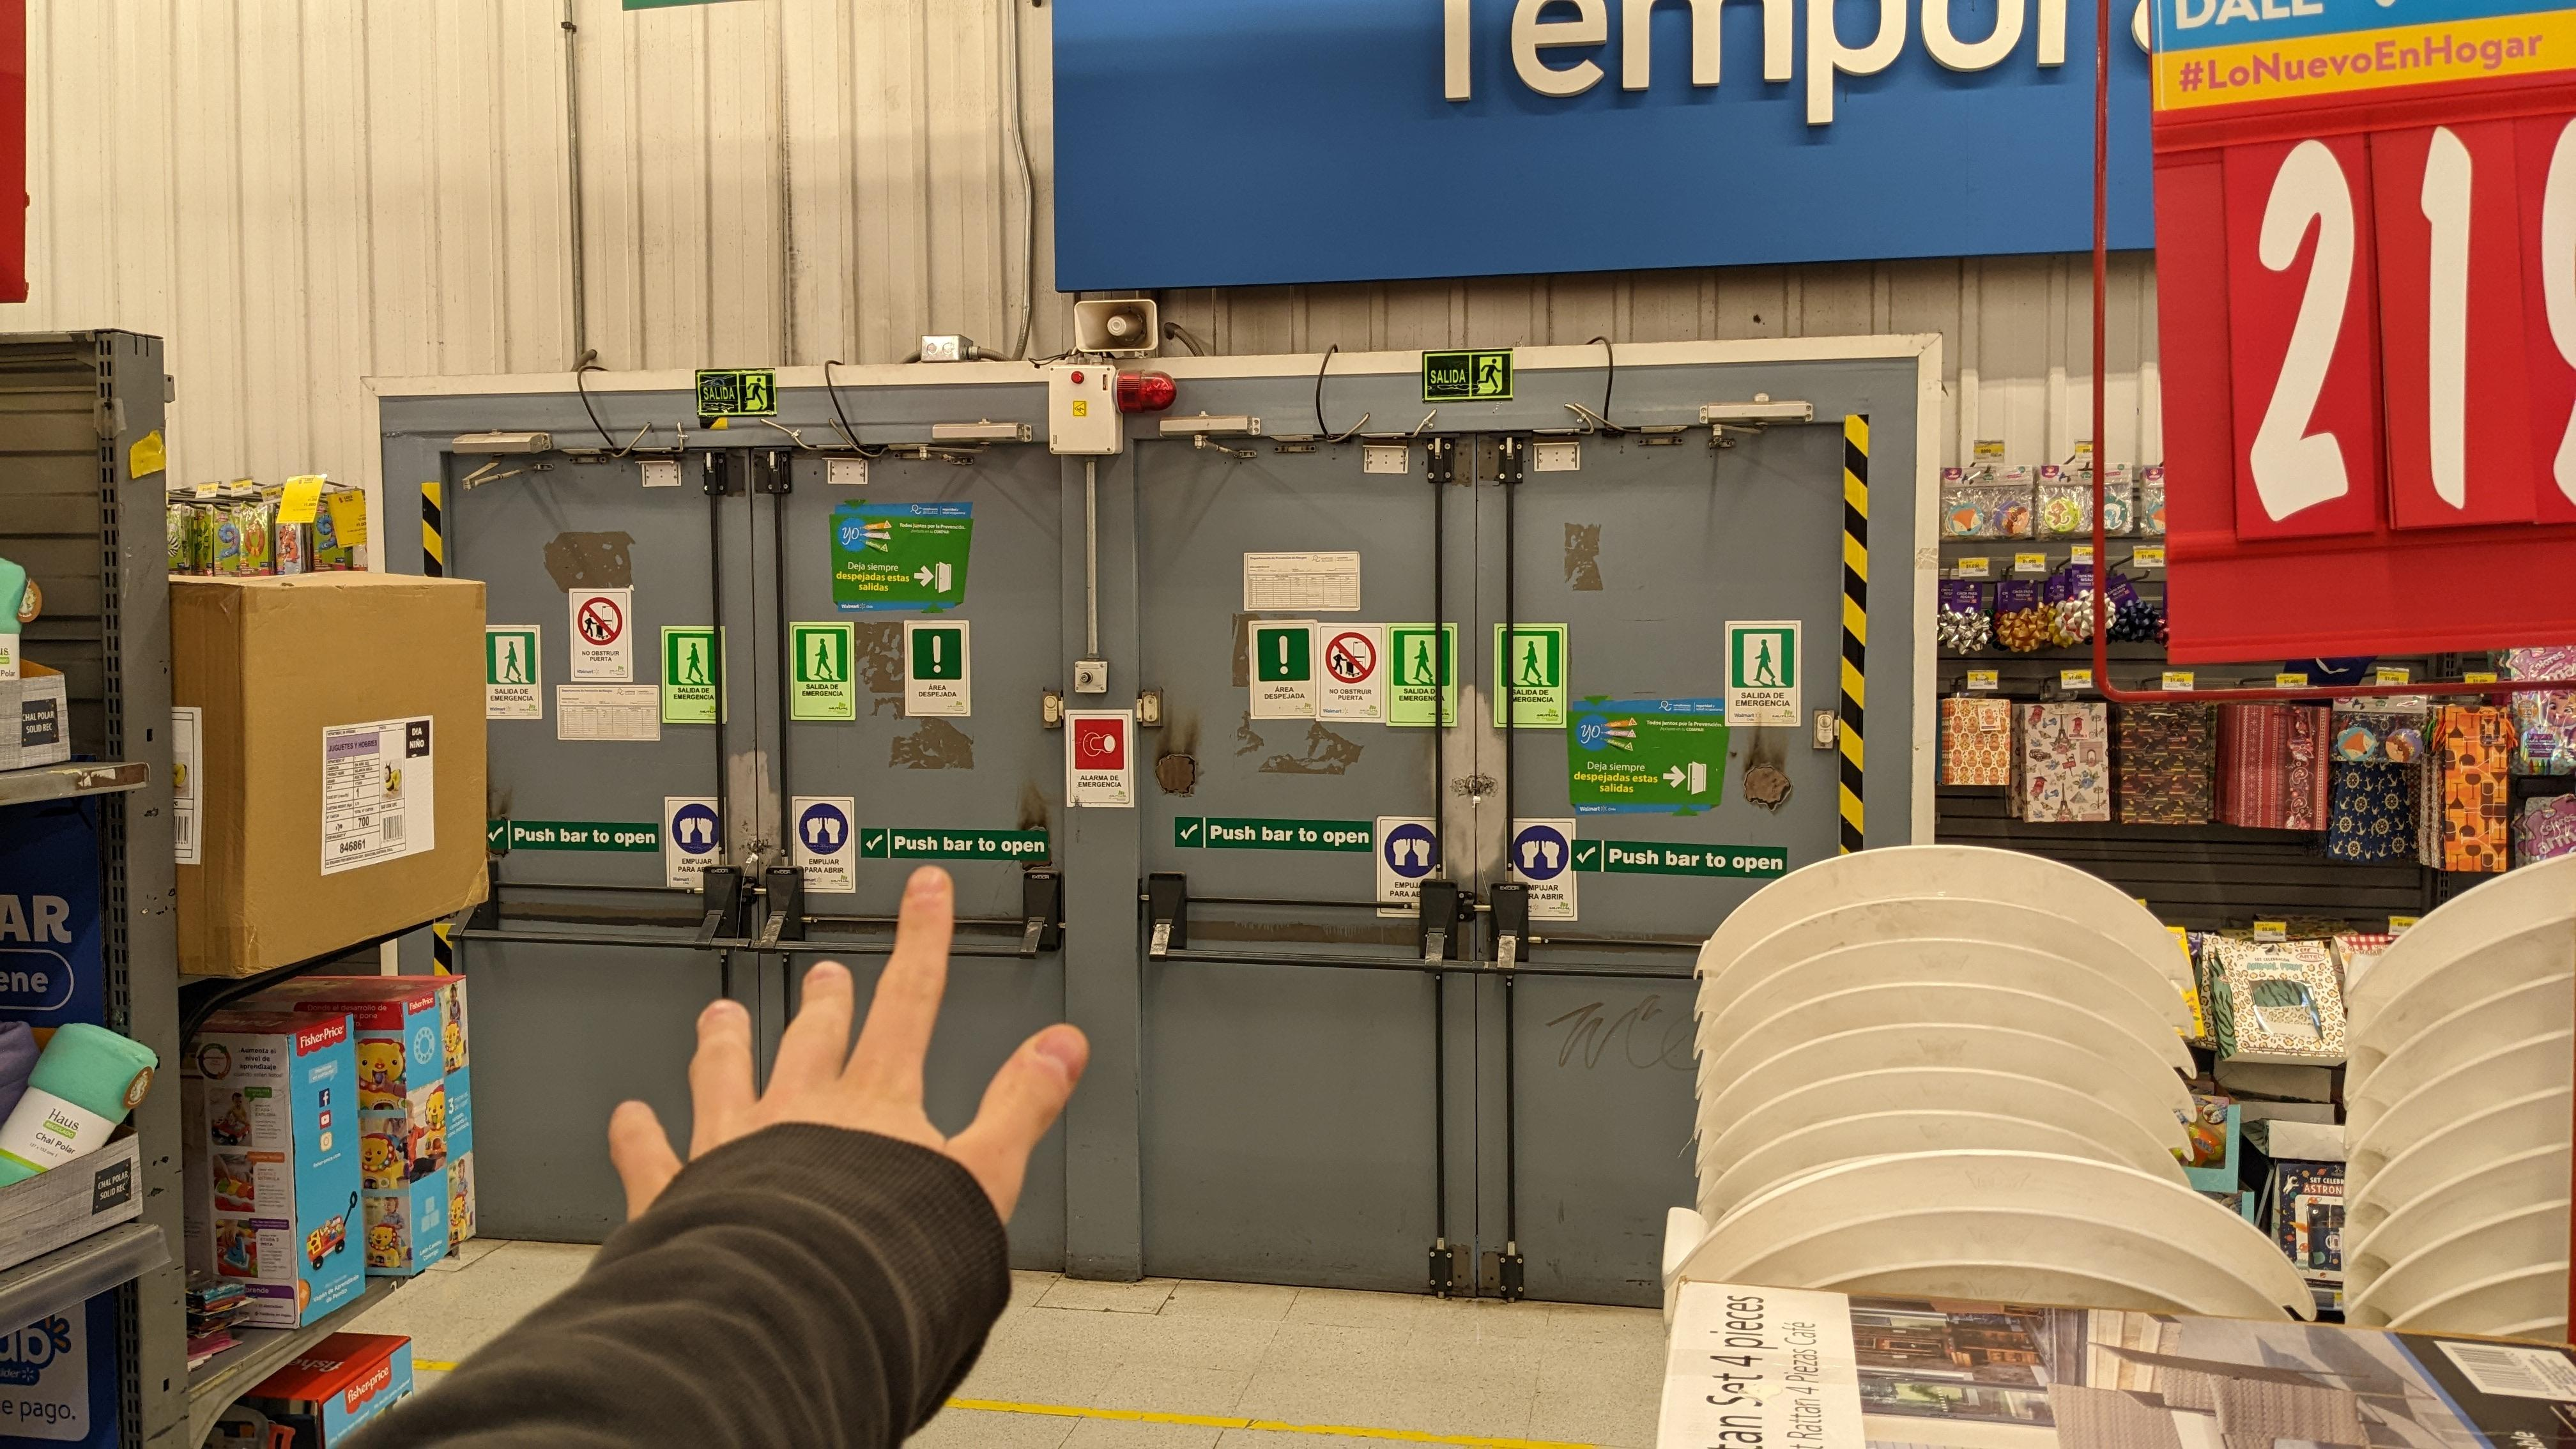emergency exit: (1477, 356, 1502, 395), (745, 375, 768, 410)
emergency right arrow: (913, 564, 934, 587)
